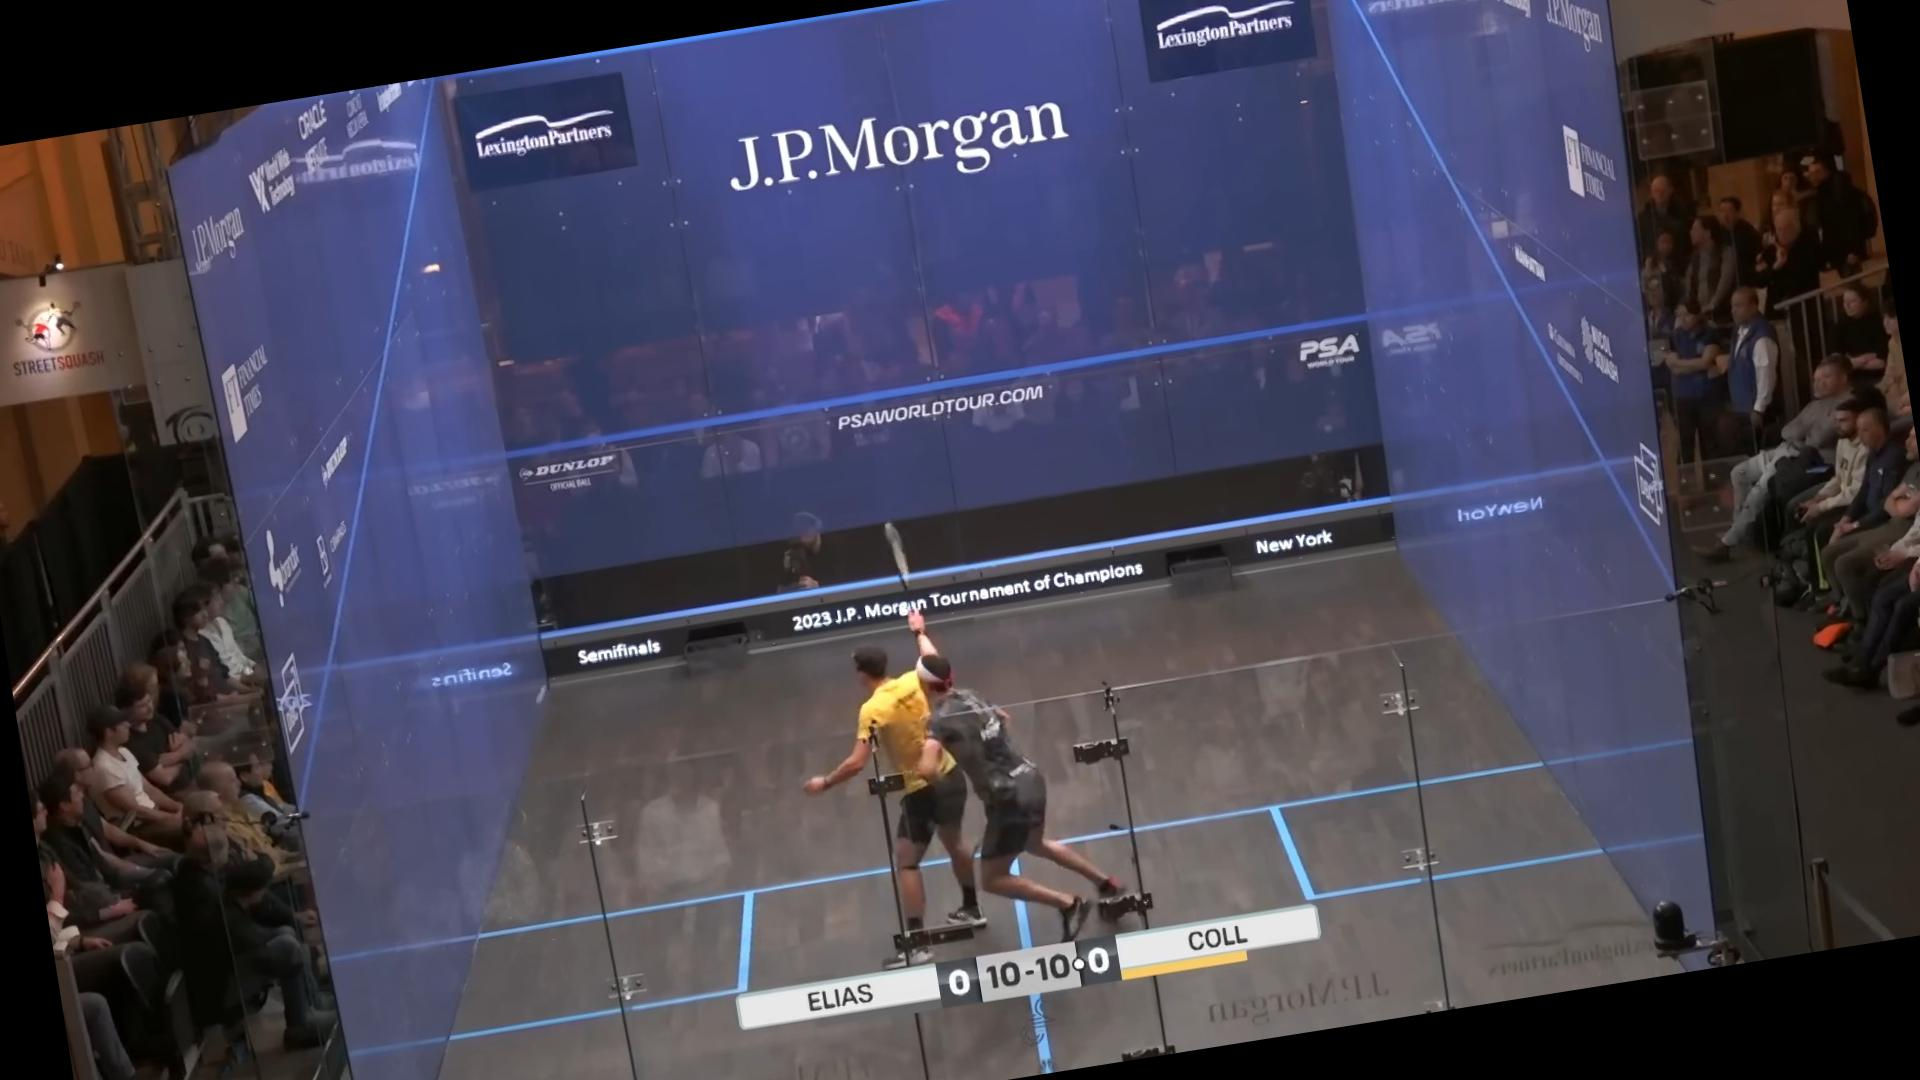Racket: (870, 512, 932, 630)
